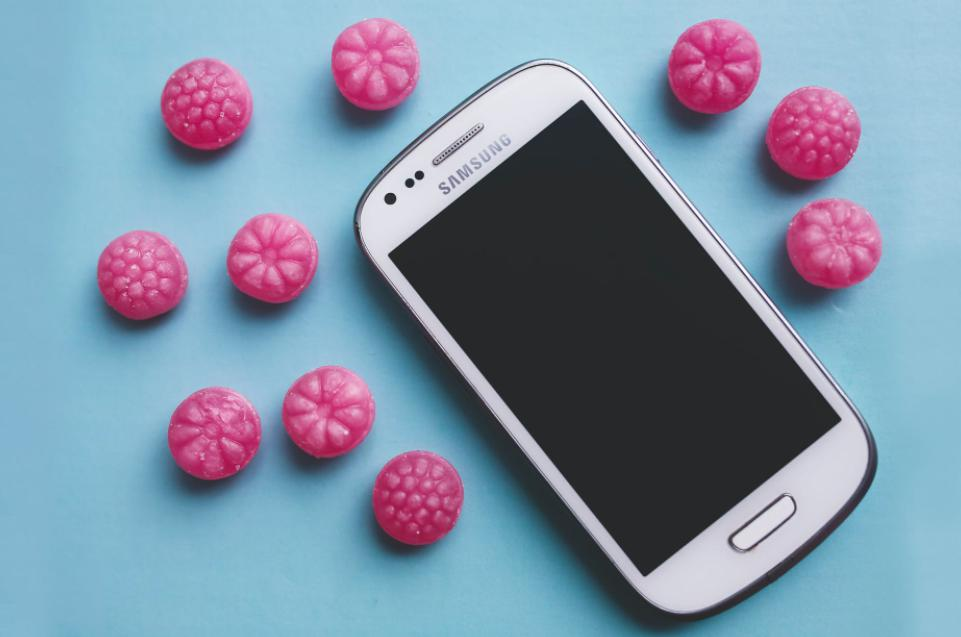mobile: (353, 59, 877, 620)
